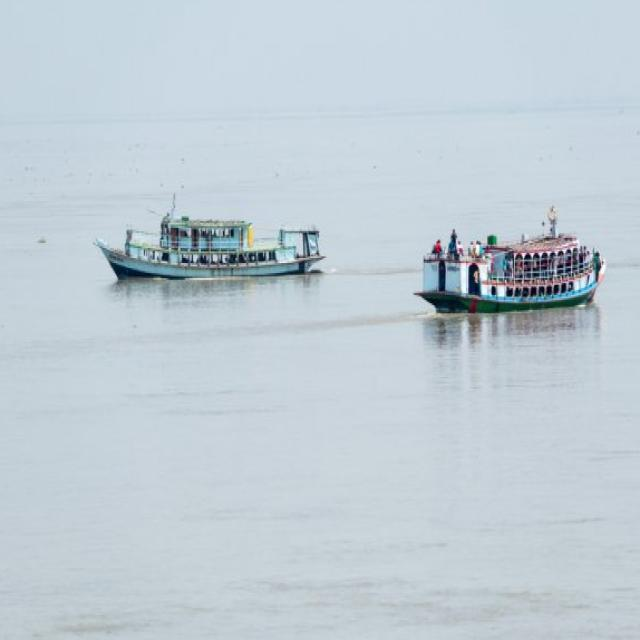houseboat: (409, 194, 608, 315), (97, 194, 329, 288)
